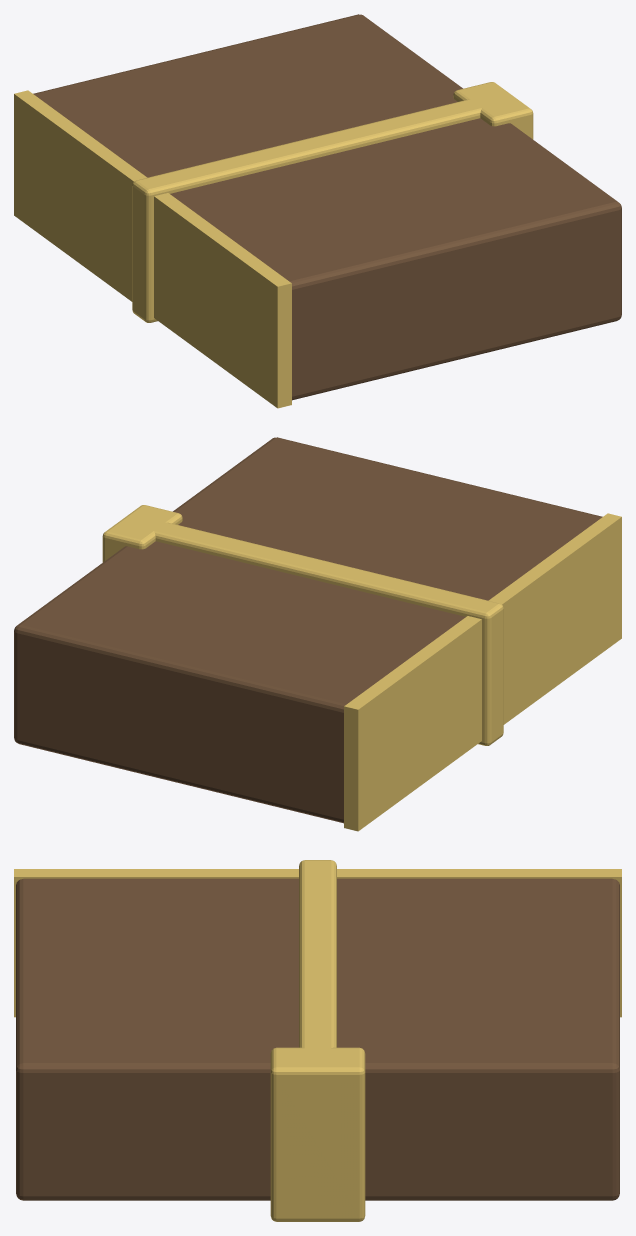
File: grimoire_locked_clasp.glb
The picture shows the model from 3 angles, top to bottom: view 1: azimuth 30°, elevation 25°; view 2: azimuth 150°, elevation 25°; view 3: azimuth 270°, elevation 25°; orthographic projection. The views are drawn at different scales.
Parts seen in each view (by area): view 1: GD_grimoire_locked_clasp__m0, GD_grimoire_locked_clasp__m2; view 2: GD_grimoire_locked_clasp__m0, GD_grimoire_locked_clasp__m2; view 3: GD_grimoire_locked_clasp__m0, GD_grimoire_locked_clasp__m2.
Boxes of the visible parts, x1=… form: GD_grimoire_locked_clasp__m0: x1=33, y1=14, x2=621, y2=400; GD_grimoire_locked_clasp__m2: x1=14, y1=82, x2=533, y2=408; GD_grimoire_locked_clasp__m0: x1=14, y1=437, x2=602, y2=823; GD_grimoire_locked_clasp__m2: x1=102, y1=505, x2=621, y2=831; GD_grimoire_locked_clasp__m0: x1=16, y1=878, x2=619, y2=1200; GD_grimoire_locked_clasp__m2: x1=14, y1=860, x2=621, y2=1221.
Size of the model in its own units: 0.265 by 0.09 by 0.322.
